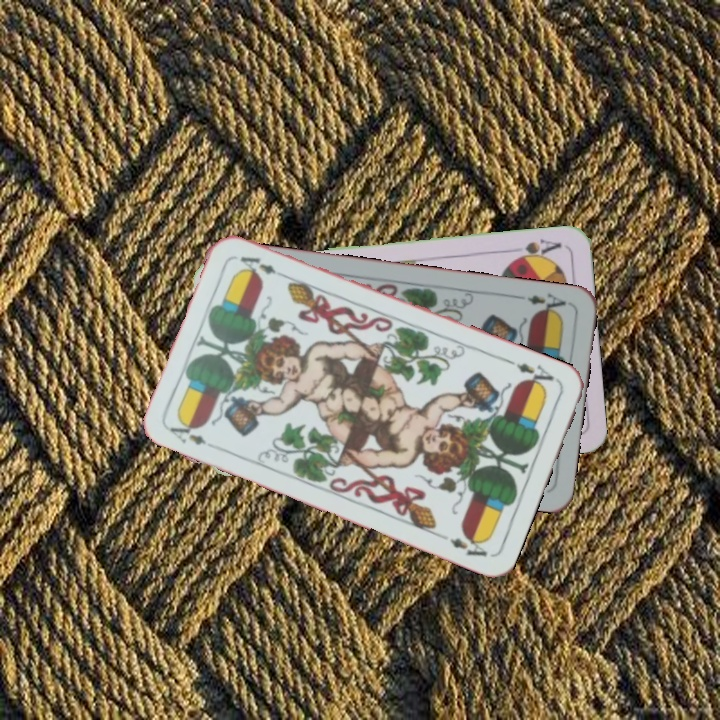EA: (504, 355, 561, 392), (513, 289, 572, 318), (165, 416, 209, 448)
SA: (507, 234, 564, 264)
